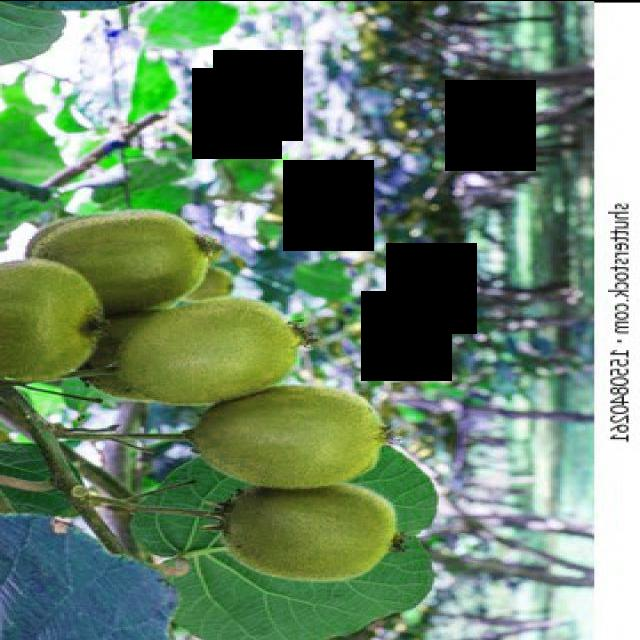kiwi: (113, 292, 308, 403), (188, 388, 399, 490), (22, 211, 221, 308), (223, 477, 404, 581), (1, 253, 106, 385)
